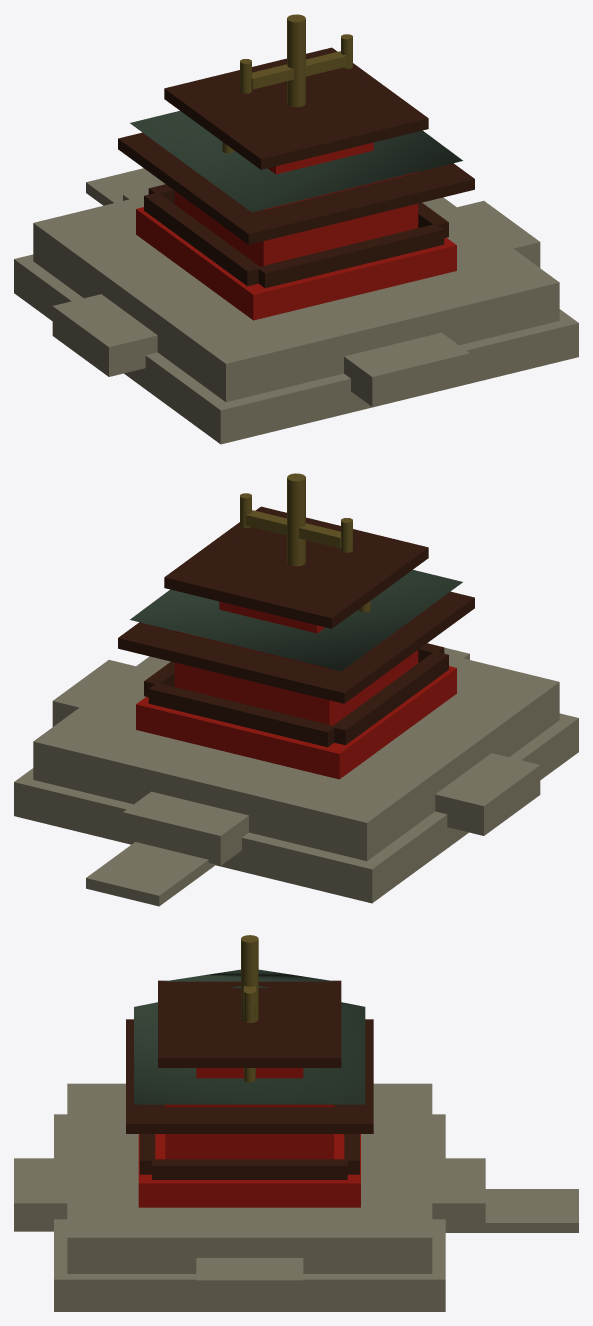
Rendered from Mingtang.fbx.
The picture shows the model from 3 angles, top to bottom: view 1: azimuth 30°, elevation 25°; view 2: azimuth 150°, elevation 25°; view 3: azimuth 270°, elevation 25°; orthographic projection. The views are drawn at different scales.
Visible parts, largest first — view 1: altar, altar_lower, upper_roof_eave_belt, roof, lower_canopy_eave_belt, altar_upper, north_stair, east_stair, hall_2, rail_north, rail_east, west_stair (+5 smaller); view 2: altar, upper_roof_eave_belt, altar_lower, roof, lower_canopy_eave_belt, altar_upper, south_stair, east_stair, hall_2, south_axial_path, rail_south, rail_east (+5 smaller); view 3: altar, upper_roof_eave_belt, altar_lower, roof, lower_canopy_eave_belt, altar_upper, west_stair, hall_2, south_axial_path, rail_west, south_stair, north_stair (+5 smaller).
Part boxes in pixels (x1,y1,x2,y2): altar: (33,196,559,402); altar_lower: (14,254,578,444); upper_roof_eave_belt: (164,47,428,169); roof: (130,80,462,212); lower_canopy_eave_belt: (118,132,474,244); altar_upper: (136,207,456,320); north_stair: (344,332,469,406); east_stair: (52,294,157,376); hall_2: (174,172,418,266); rail_north: (258,224,444,288); rail_east: (144,193,260,286); west_stair: (457,201,540,267); altar: (33,655,559,861); upper_roof_eave_belt: (164,506,428,628); altar_lower: (14,713,578,903); roof: (130,539,462,671); lower_canopy_eave_belt: (118,591,474,703); altar_upper: (136,666,456,779); south_stair: (123,791,248,865); east_stair: (435,753,540,835); hall_2: (174,631,418,725); south_axial_path: (86,842,215,906); rail_south: (148,683,335,747); rail_east: (333,651,448,745); altar: (67,1083,432,1273); upper_roof_eave_belt: (158,980,341,1067); altar_lower: (54,1114,445,1311); roof: (134,986,365,1104); lower_canopy_eave_belt: (126,1019,373,1133); altar_upper: (138,1134,360,1207); west_stair: (196,1258,303,1308); hall_2: (165,1104,334,1159); south_axial_path: (445,1189,578,1232); rail_west: (152,1159,347,1179); south_stair: (432,1158,485,1231); north_stair: (14,1158,67,1231).
Bounding box in the file's own units: 106 × 72 × 127.
